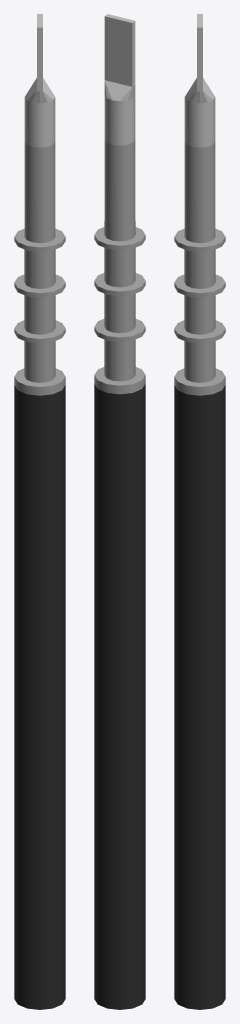
The model's file is BACK_STICK.fbx.
3 renders of one model, left to right at view 1: azimuth 90°, elevation 25°; view 2: azimuth 150°, elevation 25°; view 3: azimuth 270°, elevation 25°, orthographic.
Visible parts, largest first — view 1: BACK_STICK; view 2: BACK_STICK; view 3: BACK_STICK.
Part boxes in pixels (x1=…): BACK_STICK: x1=14, y1=14, x2=65, y2=1009; BACK_STICK: x1=94, y1=14, x2=145, y2=1009; BACK_STICK: x1=174, y1=14, x2=225, y2=1009.
Bounding box in the file's own units: 0.0472 × 0.9969 × 0.0472.
1 material, 1 textured.
